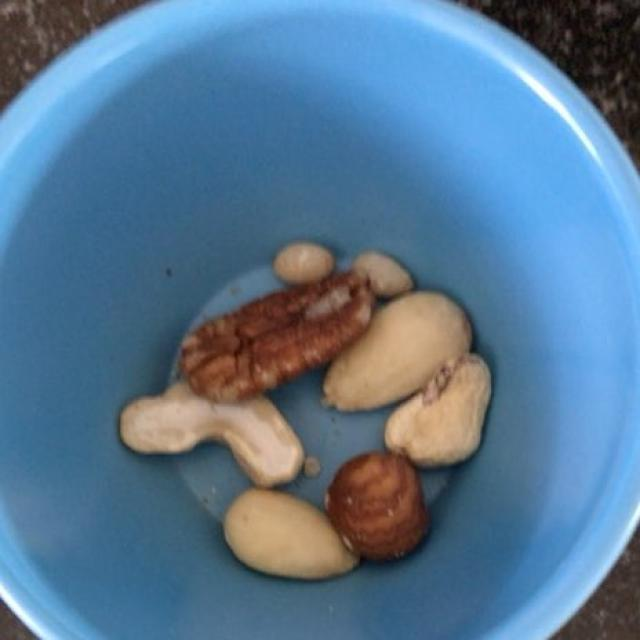mixed-nuts: (106, 232, 506, 592)
